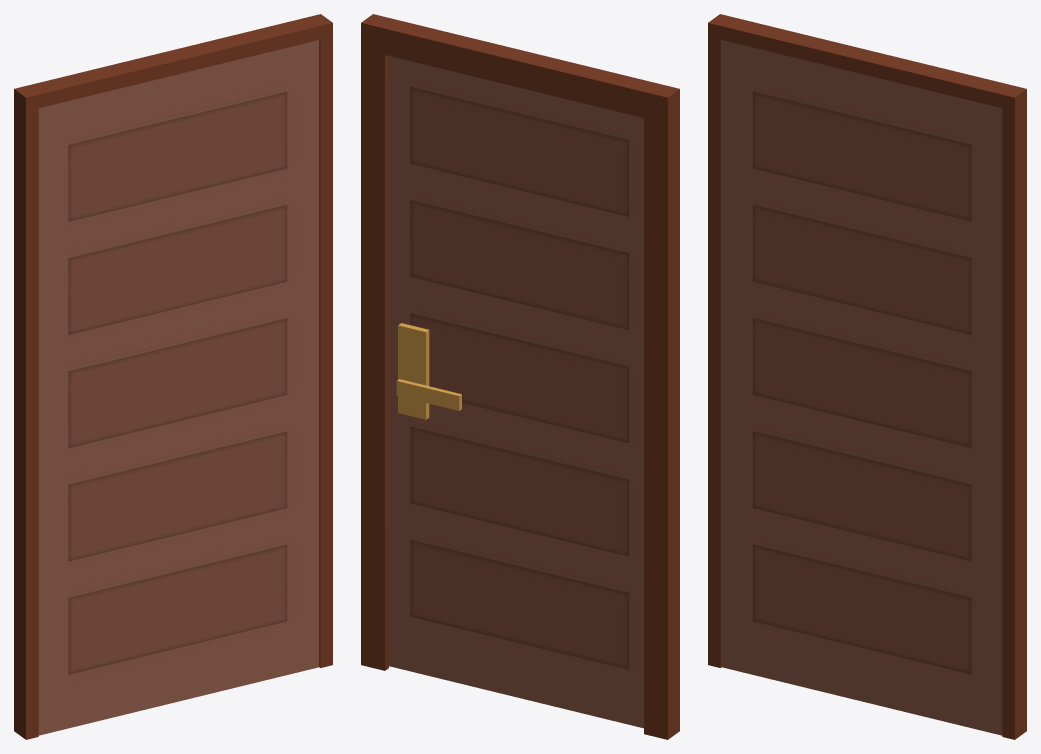
Rendered from SM_Door_110_V2.fbx.
The picture shows the model from 3 angles, left to right: view 1: azimuth 30°, elevation 25°; view 2: azimuth 150°, elevation 25°; view 3: azimuth 330°, elevation 25°; orthographic projection.
Parts seen in each view (by area): view 1: Door_Panel_90, Frame; view 2: Door_Panel_90, Frame, Handle_D, Handle_R; view 3: Door_Panel_90, Frame.
Part boxes in pixels (box(x1,y1,x2,y2)): Door_Panel_90: box(38, 40, 319, 735); Frame: box(14, 14, 332, 739); Door_Panel_90: box(389, 56, 643, 728); Frame: box(361, 14, 679, 739); Handle_D: box(398, 323, 429, 419); Handle_R: box(396, 379, 461, 410); Door_Panel_90: box(721, 40, 1002, 735); Frame: box(708, 14, 1026, 739).
Bounding box in the file's own units: 1.1 × 2.2 × 0.0765.
